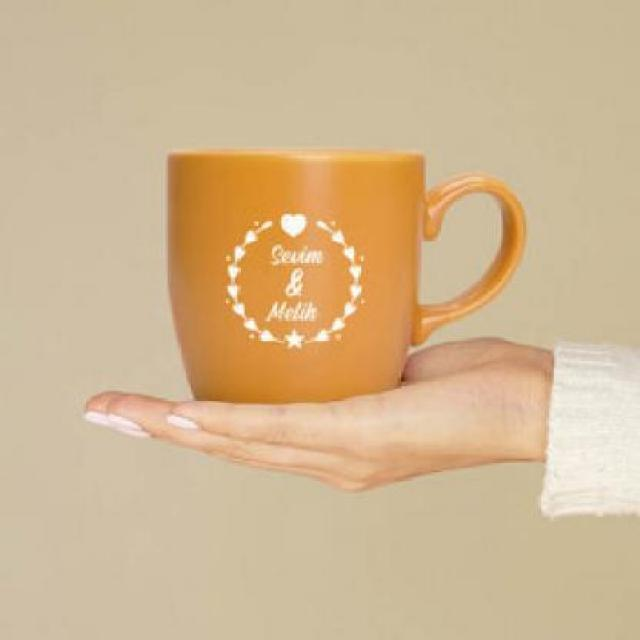taza: (164, 146, 526, 414)
